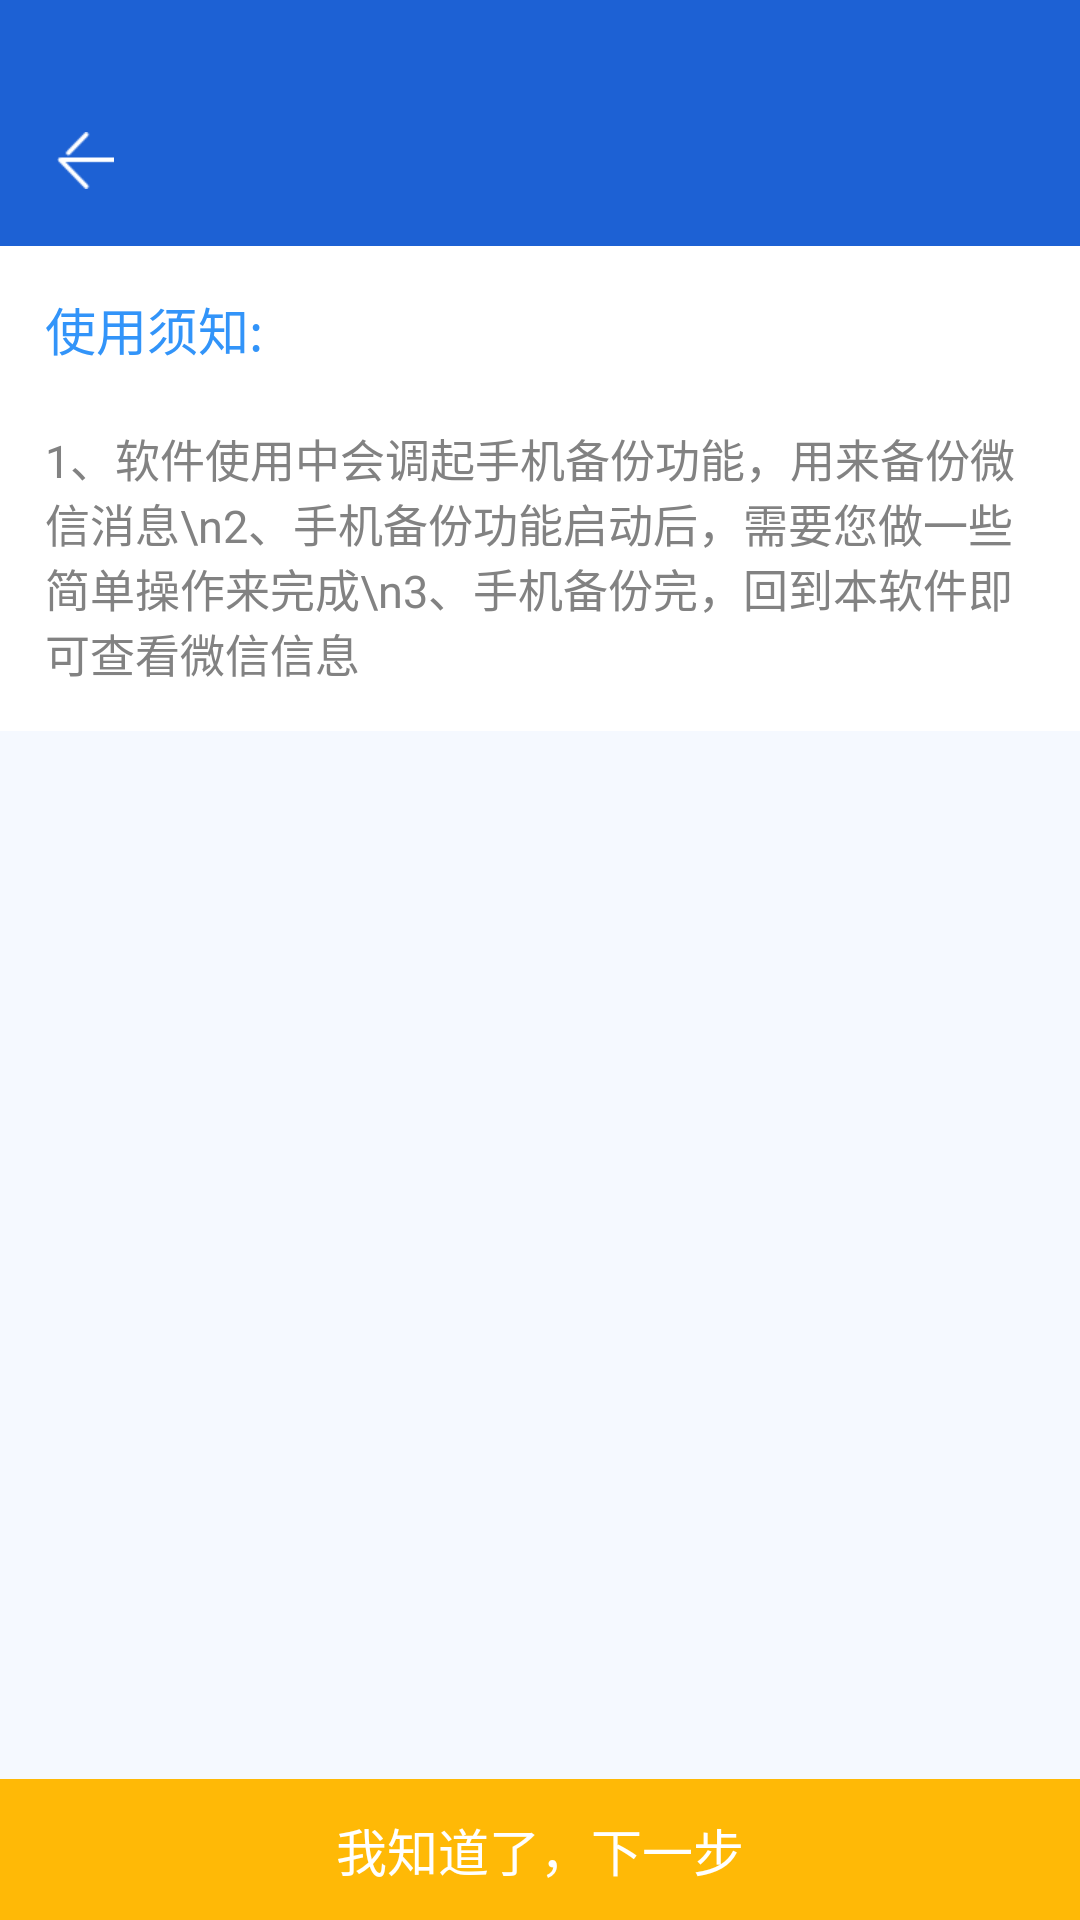

Icons on this 1080x1920 Android screen, each with the point to tap as (x,y):
back: (85,160)
